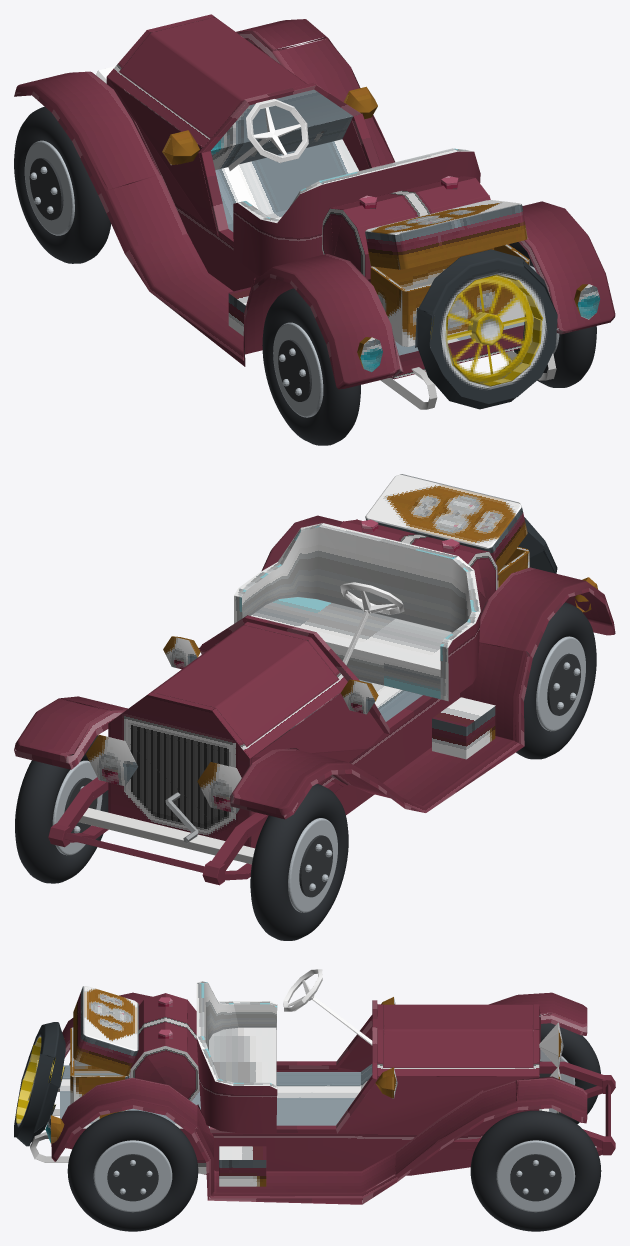
Rendered from car-burns_v.glb.
3 renders of one model, top to bottom at view 1: azimuth 30°, elevation 25°; view 2: azimuth 150°, elevation 25°; view 3: azimuth 270°, elevation 25°, orthographic. The views are drawn at different scales.
Parts seen in each view (by area): view 1: burns_vShape.005, burns_vShape.001, burns_vShape.004, burns_vShape.007, burns_vShape.002, HoodRotShape.004, TrunkRotShape.002, Rounded tire.013, Rounded tire.012, Rounded tire.015, Alloy rim.012, Alloy rim.013 (+2 smaller); view 2: burns_vShape.004, burns_vShape.005, burns_vShape.001, burns_vShape.003, HoodRotShape.004, TrunkRotShape.002, Rounded tire.013, Rounded tire.014, burns_vShape.002, Rounded tire.012, Alloy rim.012, Alloy rim.013 (+4 smaller); view 3: burns_vShape.005, burns_vShape.004, burns_vShape.002, HoodRotShape.004, Rounded tire.015, Rounded tire.014, TrunkRotShape.002, burns_vShape.007, Alloy rim.014, Alloy rim.015, burns_vShape.001, Rim recess.029 (+2 smaller).
Boxes of the visible parts, x1,y1,x2,y2 form: burns_vShape.005: [14, 14, 556, 409]; burns_vShape.001: [15, 71, 403, 389]; burns_vShape.004: [96, 66, 600, 372]; burns_vShape.007: [415, 249, 557, 409]; burns_vShape.002: [236, 19, 615, 334]; HoodRotShape.004: [119, 17, 306, 138]; TrunkRotShape.002: [365, 200, 527, 269]; Rounded tire.013: [14, 106, 110, 263]; Rounded tire.012: [262, 288, 360, 445]; Rounded tire.015: [509, 242, 596, 387]; Alloy rim.012: [273, 322, 323, 417]; Alloy rim.013: [24, 140, 74, 235]; burns_vShape.004: [78, 519, 597, 864]; burns_vShape.005: [14, 519, 614, 885]; burns_vShape.001: [230, 567, 615, 815]; burns_vShape.003: [108, 695, 251, 847]; HoodRotShape.004: [151, 625, 339, 746]; TrunkRotShape.002: [365, 474, 527, 573]; Rounded tire.013: [250, 784, 348, 940]; Rounded tire.014: [15, 735, 108, 883]; burns_vShape.002: [15, 515, 342, 763]; Rounded tire.012: [516, 602, 596, 759]; Alloy rim.012: [536, 636, 585, 731]; Alloy rim.013: [288, 818, 337, 912]; burns_vShape.005: [30, 993, 615, 1204]; burns_vShape.004: [45, 969, 563, 1186]; burns_vShape.002: [51, 1076, 587, 1198]; HoodRotShape.004: [383, 1004, 533, 1067]; Rounded tire.015: [67, 1110, 198, 1231]; Rounded tire.014: [470, 1110, 601, 1231]; TrunkRotShape.002: [73, 986, 138, 1075]; burns_vShape.007: [14, 1022, 65, 1146]; Alloy rim.014: [496, 1140, 575, 1212]; Alloy rim.015: [93, 1140, 172, 1212]; burns_vShape.001: [62, 992, 587, 1057]; Rim recess.029: [510, 1154, 561, 1201].
Bounding box in the file's own units: 1.93 × 1.56 × 4.42.
11 materials, 8 textured.
